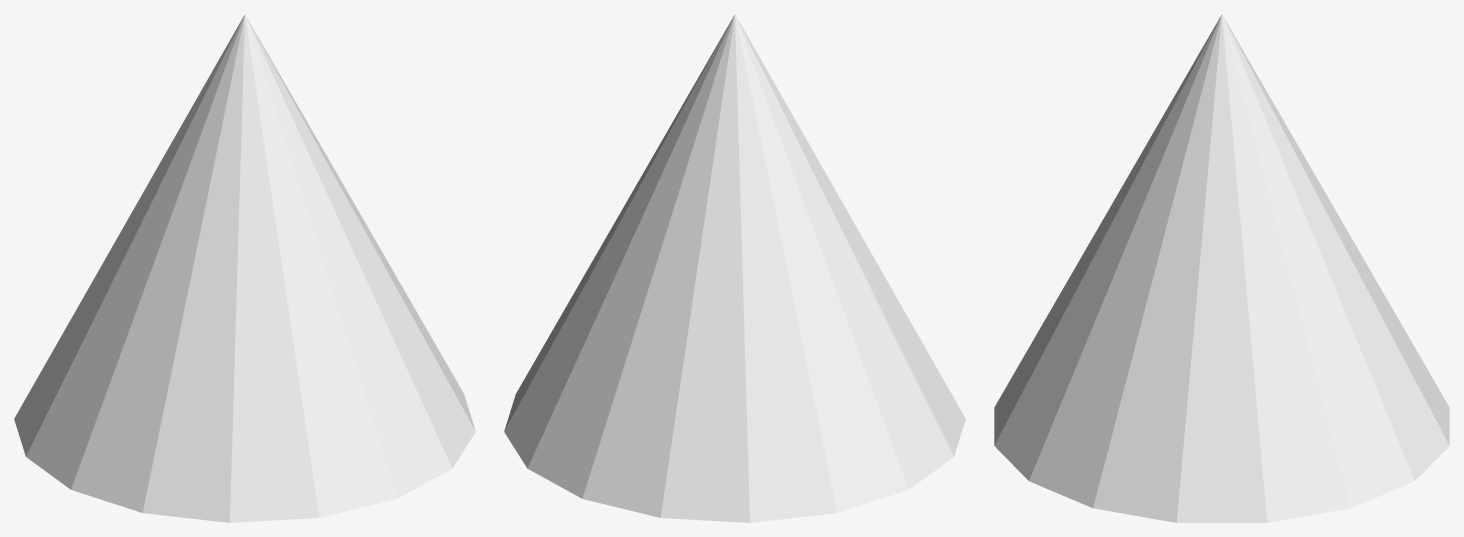
The picture shows the model from 3 angles, left to right: view 1: azimuth 30°, elevation 25°; view 2: azimuth 150°, elevation 25°; view 3: azimuth 270°, elevation 25°; orthographic projection.
Parts seen in each view (by area): view 1: cone; view 2: cone; view 3: cone.
Boxes of the visible parts, x1,y1,x2,y2 form: cone: (14, 14, 475, 522); cone: (504, 14, 965, 522); cone: (994, 14, 1449, 522).
Bounding box in the file's own units: 50 × 50 × 50.
Materials: 1 (1 with a texture image).
